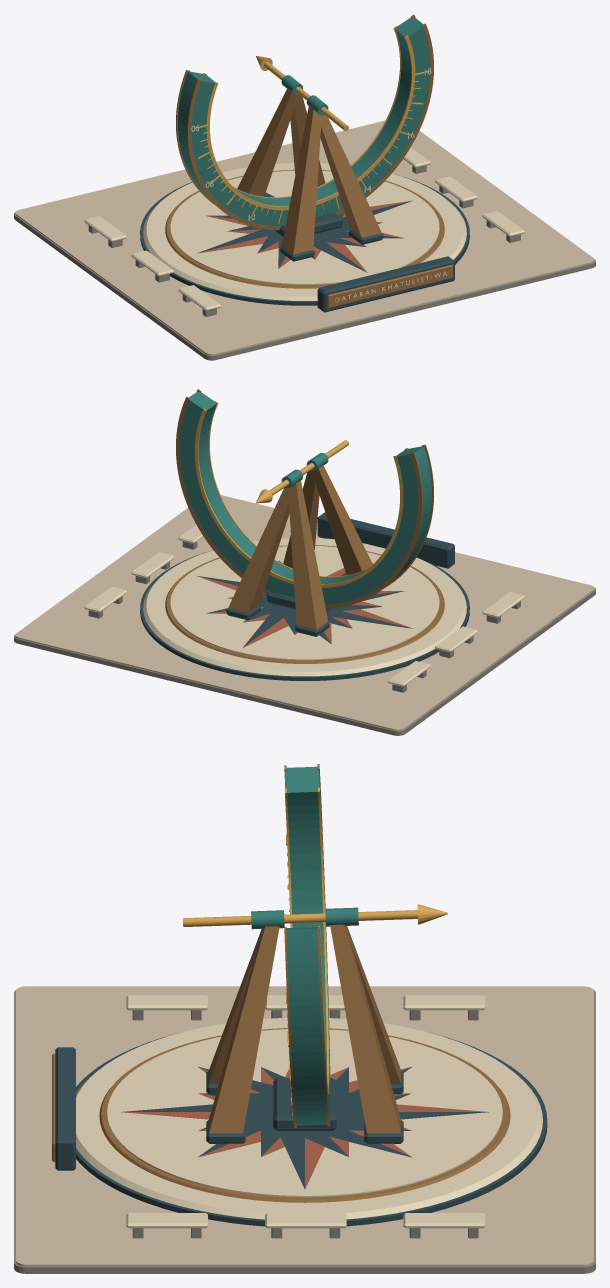
3 renders of one model, top to bottom at view 1: azimuth 30°, elevation 25°; view 2: azimuth 150°, elevation 25°; view 3: azimuth 270°, elevation 25°, orthographic. The views are drawn at different scales.
Parts seen in each view (by area): view 1: Promenade, Compass Pavement, Solar Hour Bow, Meridian Frame, Dial Inscriptions; view 2: Promenade, Compass Pavement, Solar Hour Bow, Meridian Frame, Dial Inscriptions; view 3: Promenade, Compass Pavement, Meridian Frame, Solar Hour Bow, Dial Inscriptions.
Part boxes in pixels (x1,y1,x2,y2): Promenade: (14, 120, 595, 360); Compass Pavement: (140, 163, 469, 305); Solar Hour Bow: (176, 14, 433, 230); Meridian Frame: (237, 56, 383, 261); Dial Inscriptions: (191, 68, 454, 312); Promenade: (14, 495, 595, 735); Compass Pavement: (140, 538, 469, 680); Solar Hour Bow: (176, 389, 433, 608); Meridian Frame: (226, 440, 372, 636); Dial Inscriptions: (317, 512, 454, 568); Promenade: (14, 986, 595, 1273); Compass Pavement: (76, 1017, 547, 1226); Meridian Frame: (183, 904, 447, 1143); Solar Hour Bow: (284, 764, 330, 1127); Dial Inscriptions: (52, 834, 292, 1170).
Size of the model in its own units: 21.4 by 10.27 by 18.8.
